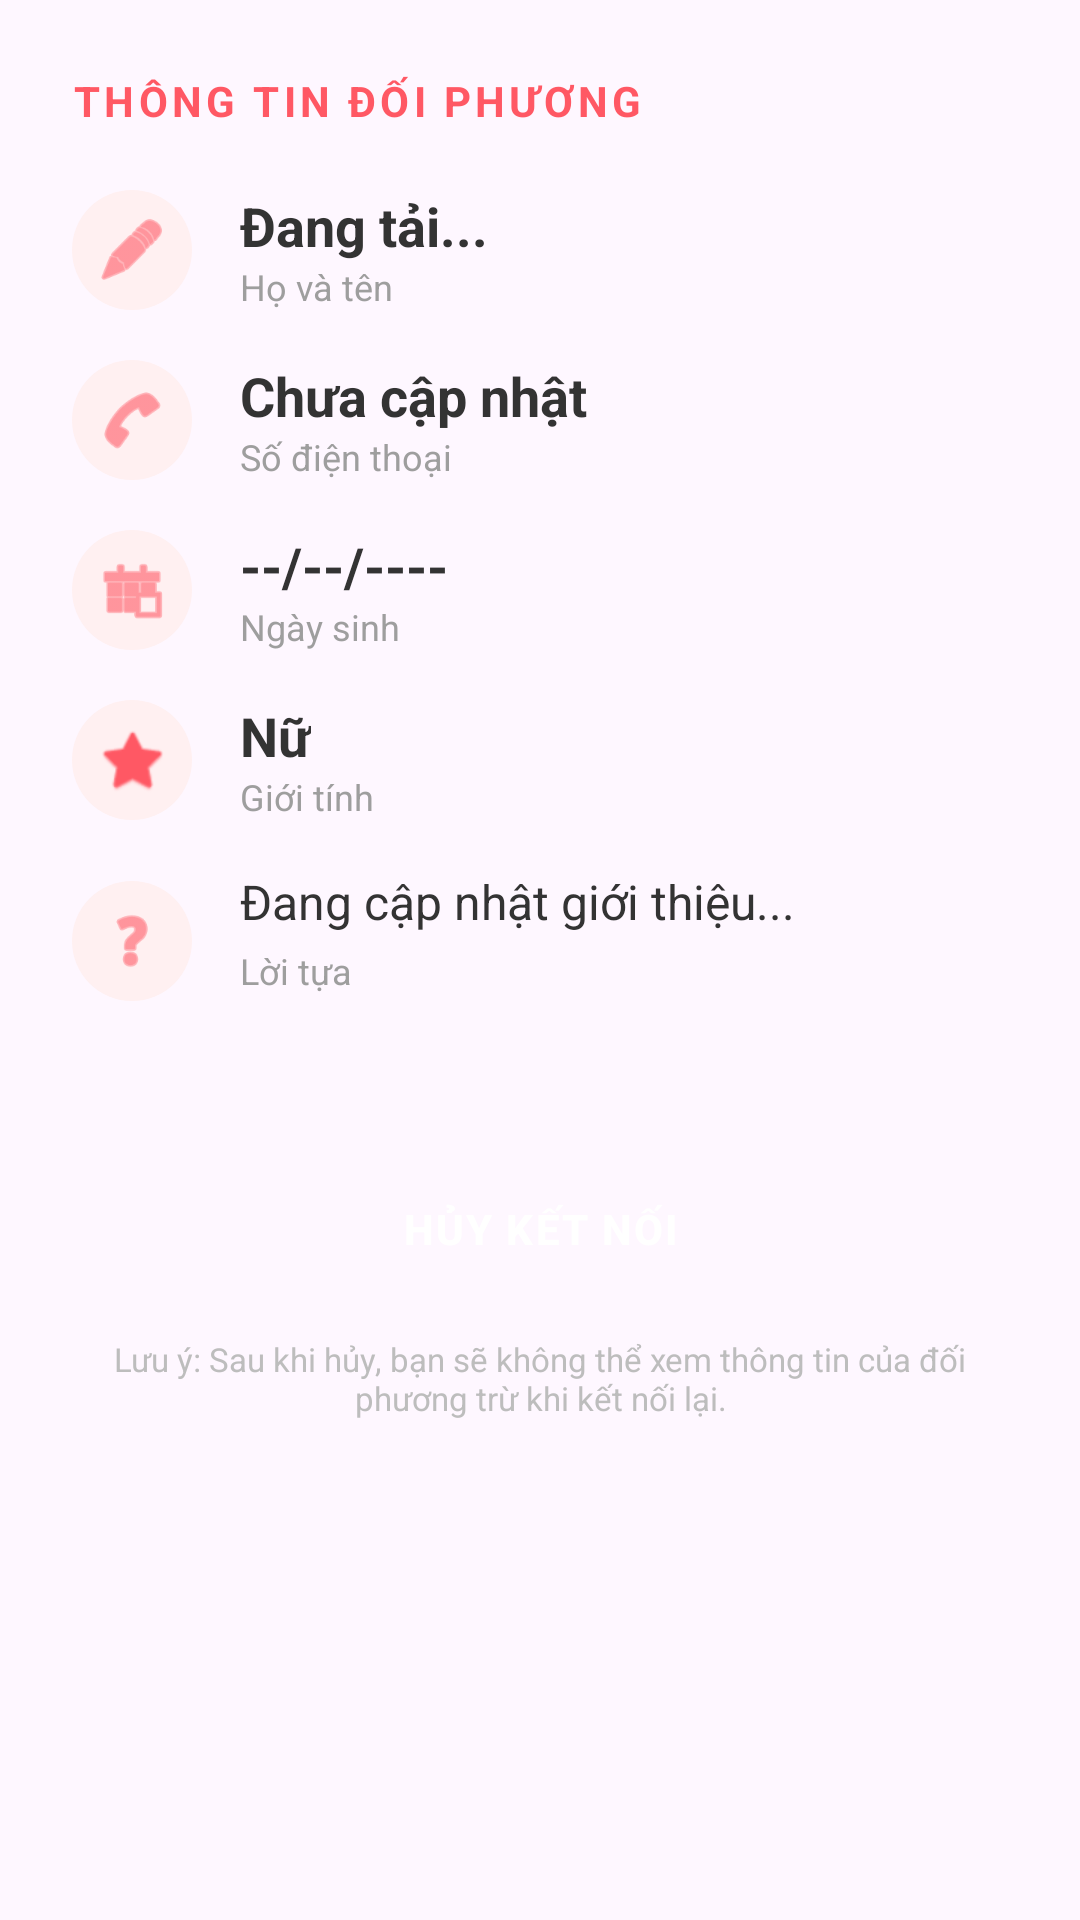

Icon click points for this 1080px x 1920px phone screenshot, format point (x, y):
call: point (132, 420)
edit: point (132, 250)
help: point (132, 941)
star: point (132, 760)
today: point (132, 591)
